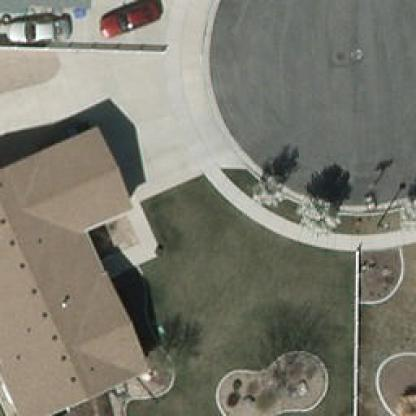car: (91, 0, 166, 41), (0, 13, 70, 47)
